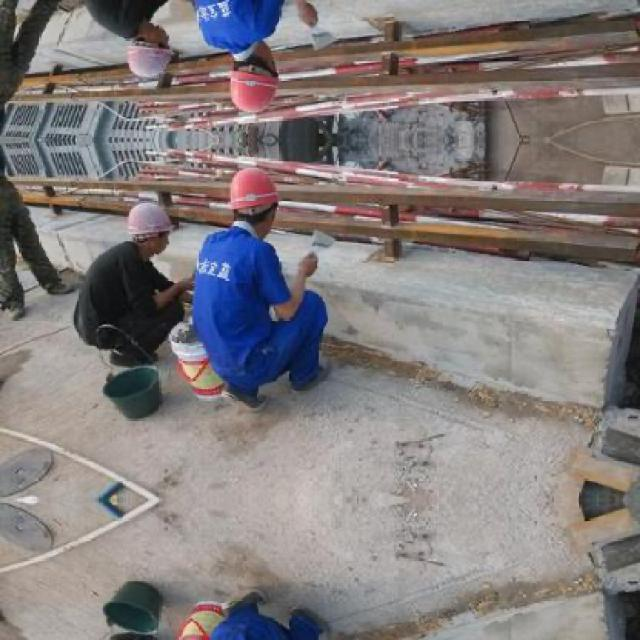con casco: (210, 162, 295, 252), (107, 182, 178, 266)
